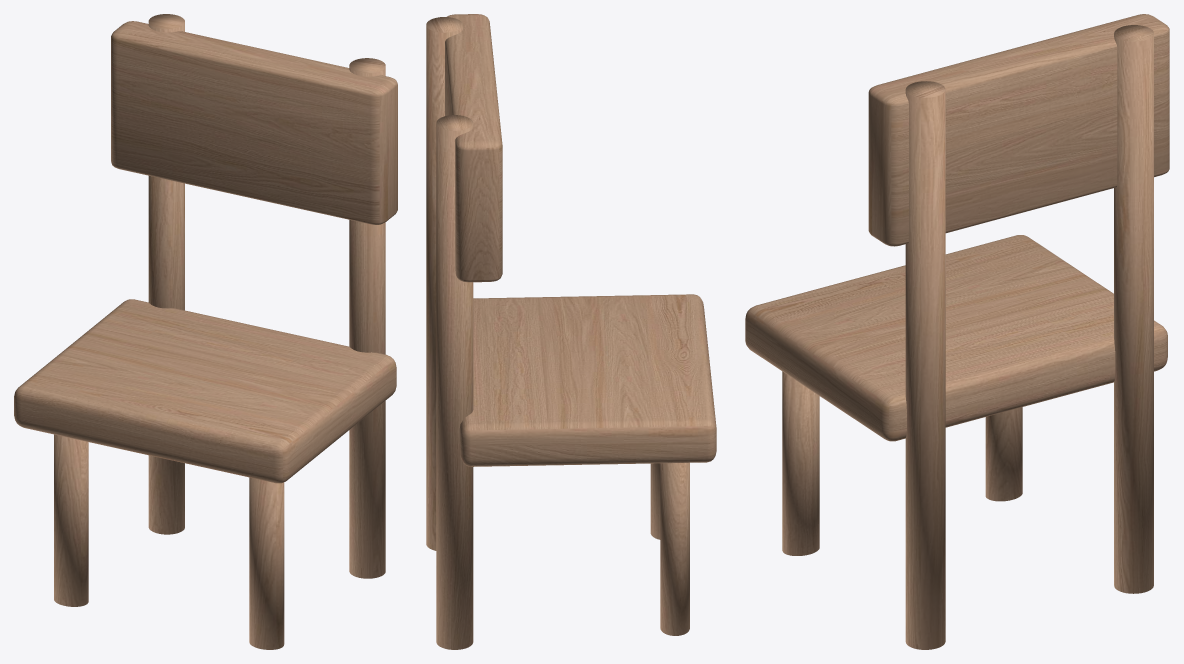
The model's file is KURSI.glb.
The picture shows the model from 3 angles, left to right: view 1: azimuth 30°, elevation 25°; view 2: azimuth 150°, elevation 25°; view 3: azimuth 270°, elevation 25°; orthographic projection. The views are drawn at different scales.
Parts seen in each view (by area): view 1: kursi.002; view 2: kursi.002; view 3: kursi.002.
Part boxes in pixels (x1,y1,x2,y2): kursi.002: (14, 14, 397, 649); kursi.002: (426, 14, 716, 649); kursi.002: (745, 14, 1169, 649).
Bounding box in the file's own units: 9.08 × 13.57 × 9.45.
Materials: 1 (1 with a texture image).
